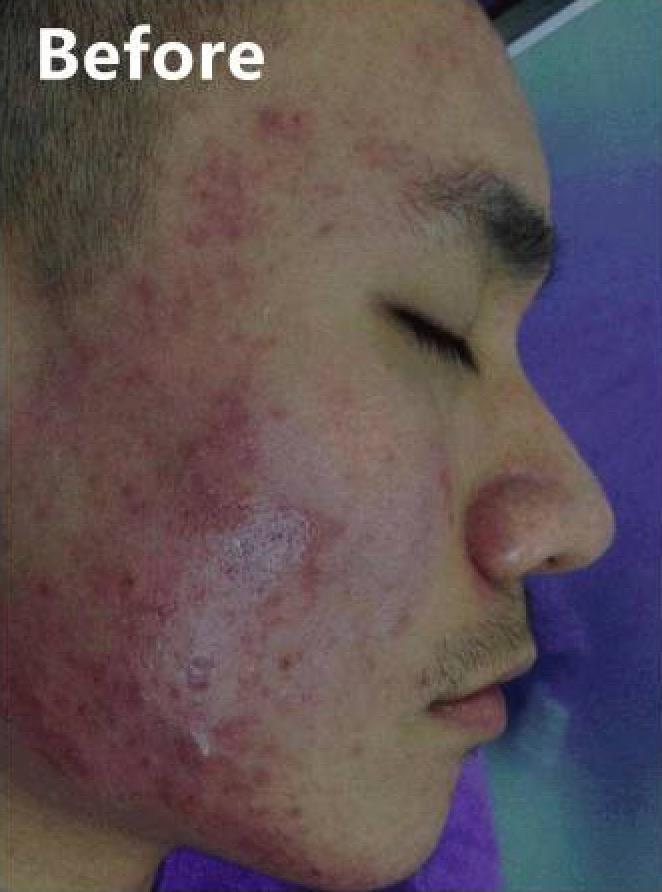fore: (286, 567, 341, 624), (179, 774, 226, 832), (175, 434, 220, 490), (216, 375, 258, 424), (228, 658, 266, 711), (177, 723, 216, 774), (107, 666, 151, 711), (230, 824, 276, 867), (115, 561, 155, 608), (250, 98, 295, 139), (52, 737, 96, 778), (276, 788, 315, 834), (32, 571, 68, 620), (262, 836, 305, 877), (226, 705, 272, 743), (68, 343, 109, 385), (218, 211, 256, 256), (287, 531, 337, 565), (177, 209, 212, 256), (422, 454, 462, 495), (236, 755, 276, 794), (226, 424, 264, 464), (78, 642, 104, 697), (121, 357, 153, 401), (129, 276, 163, 317), (185, 669, 220, 703), (282, 505, 331, 529), (30, 713, 62, 749), (44, 683, 76, 717), (111, 476, 137, 515), (129, 743, 157, 778), (153, 784, 181, 818), (270, 642, 297, 677), (230, 165, 250, 207), (143, 604, 171, 634), (193, 151, 226, 173), (193, 173, 214, 201)
